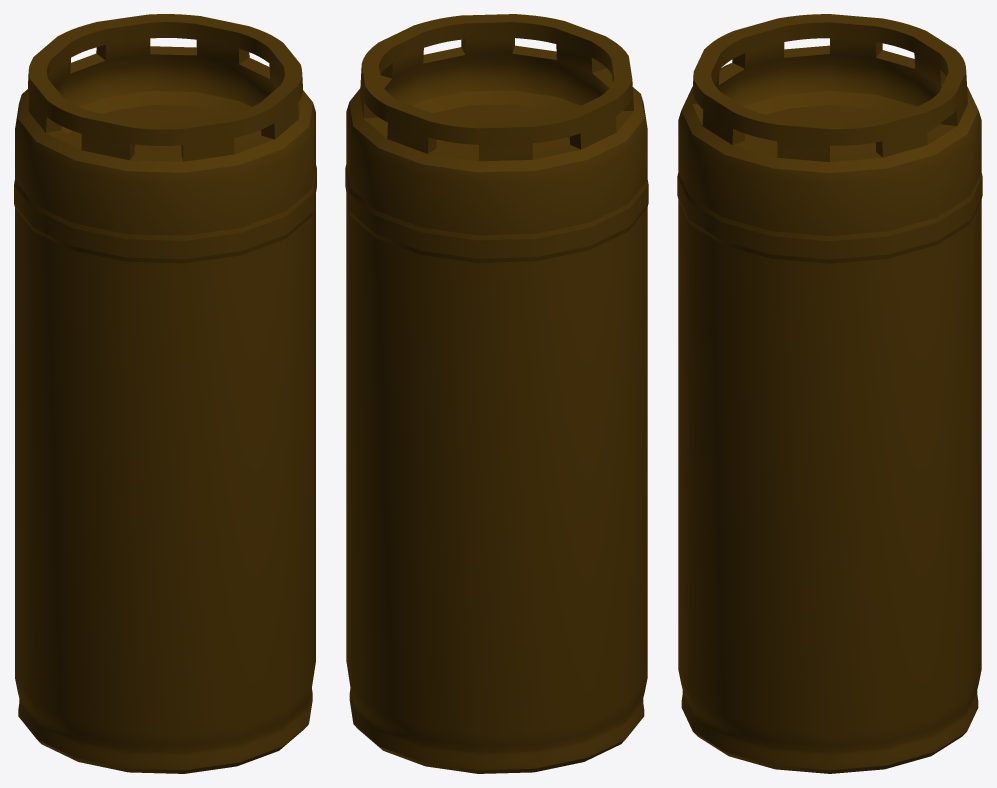
File: gas12.glb
3 views of the same model, side by side, from view 1: azimuth 30°, elevation 25°; view 2: azimuth 150°, elevation 25°; view 3: azimuth 270°, elevation 25° (orthographic).
Visible parts, largest first — view 1: Gas12; view 2: Gas12; view 3: Gas12.
Part boxes in pixels (<box>): Gas12: <box>14,14,316,773</box>; Gas12: <box>345,14,648,773</box>; Gas12: <box>677,14,982,773</box>.
Bounding box in the file's own units: 1.96 × 4.53 × 1.96.
